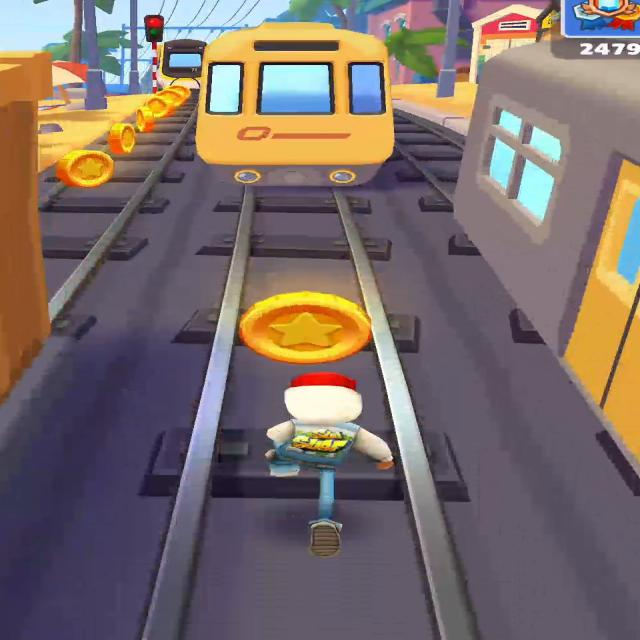train: (454, 40, 639, 466), (196, 23, 394, 187), (0, 52, 51, 401), (156, 39, 206, 88)
